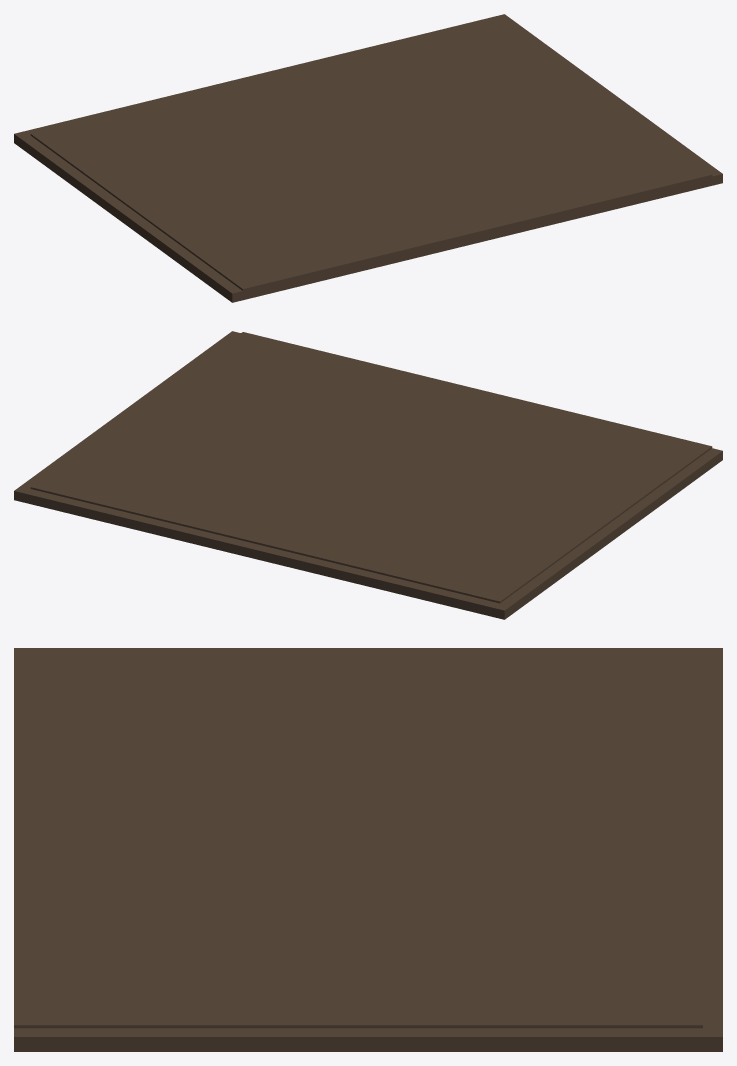
Rendered from floor.glb.
The picture shows the model from 3 angles, top to bottom: view 1: azimuth 30°, elevation 25°; view 2: azimuth 150°, elevation 25°; view 3: azimuth 270°, elevation 25°; orthographic projection. The views are drawn at different scales.
Visible parts, largest first — view 1: mickeys_floor; view 2: mickeys_floor; view 3: mickeys_floor.
Part boxes in pixels (box(x1,y1,x2,y2)): mickeys_floor: box(14, 14, 722, 302); mickeys_floor: box(14, 331, 722, 619); mickeys_floor: box(14, 648, 722, 1051).
Size of the model in its own units: 5.54 by 0.12 by 4.27.
